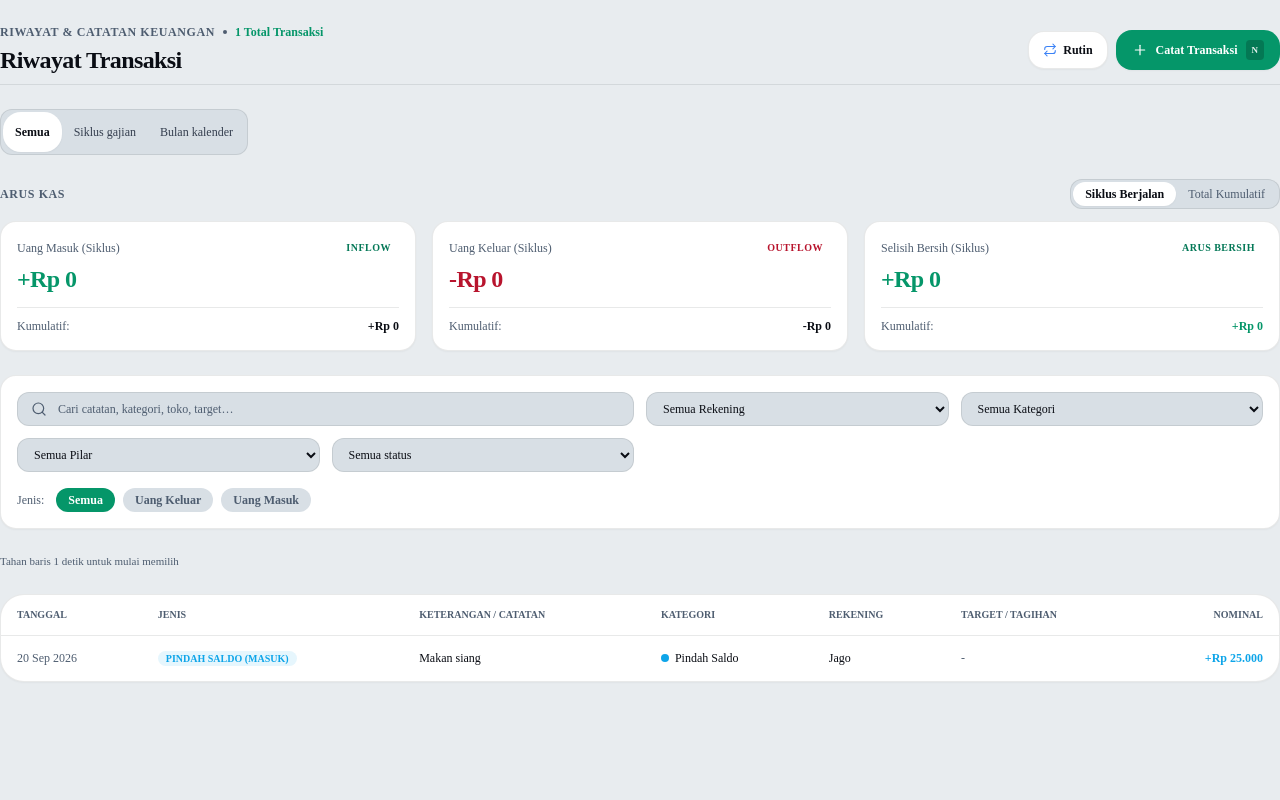
Test: Ledger edit receipt recovery › uses the source partner when editing a filtered inbound movement
The image size is (1280, 800).
Click the row named "Buka atau ubah: Makan siang". click: (47, 658)
box: top-left (1, 635), bottom-right (1279, 680)
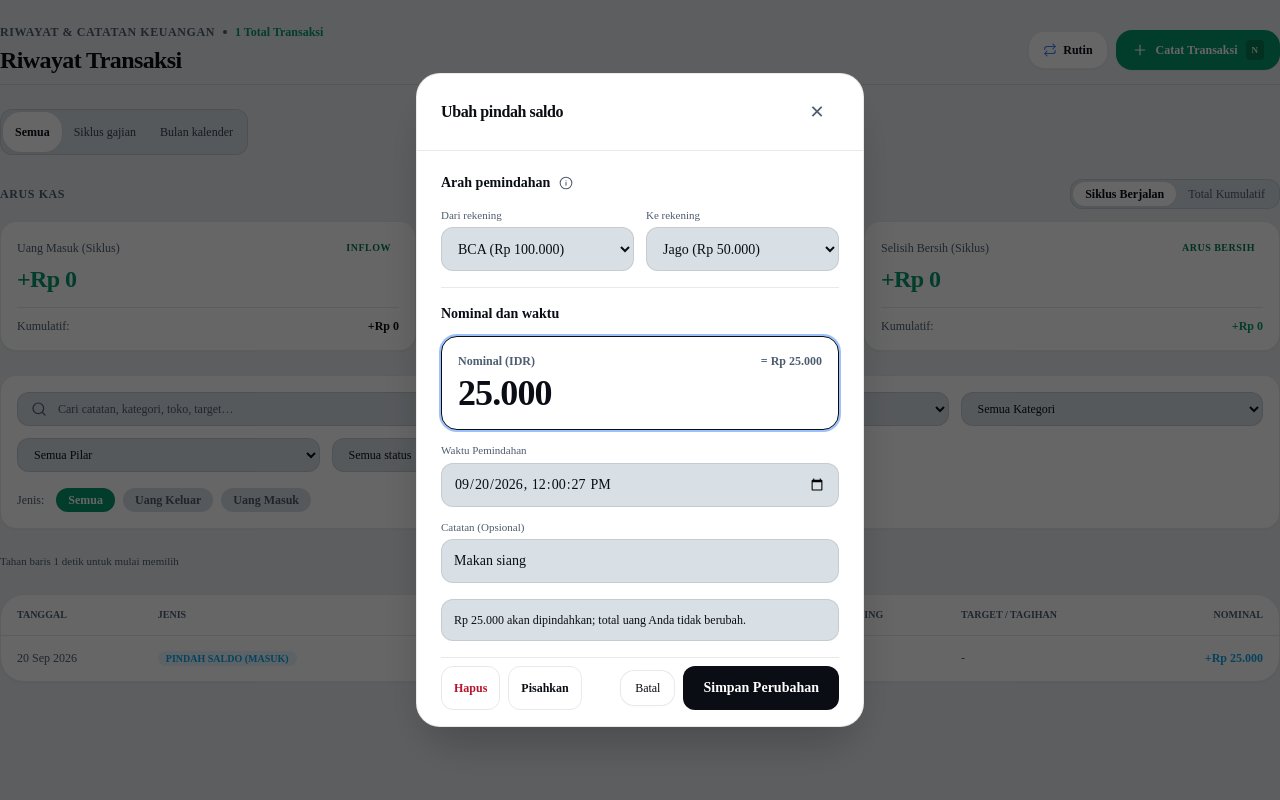
Now the dialog "Ubah pindah saldo" is shown, box top-left (416, 73), bottom-right (864, 727)
Now the dropdown labelled "Dari rekening" shows "BCA (Rp 100.000)", box top-left (441, 227), bottom-right (634, 271)
Now the dropdown labelled "Ke rekening" shows "Jago (Rp 50.000)", box top-left (646, 227), bottom-right (839, 271)
